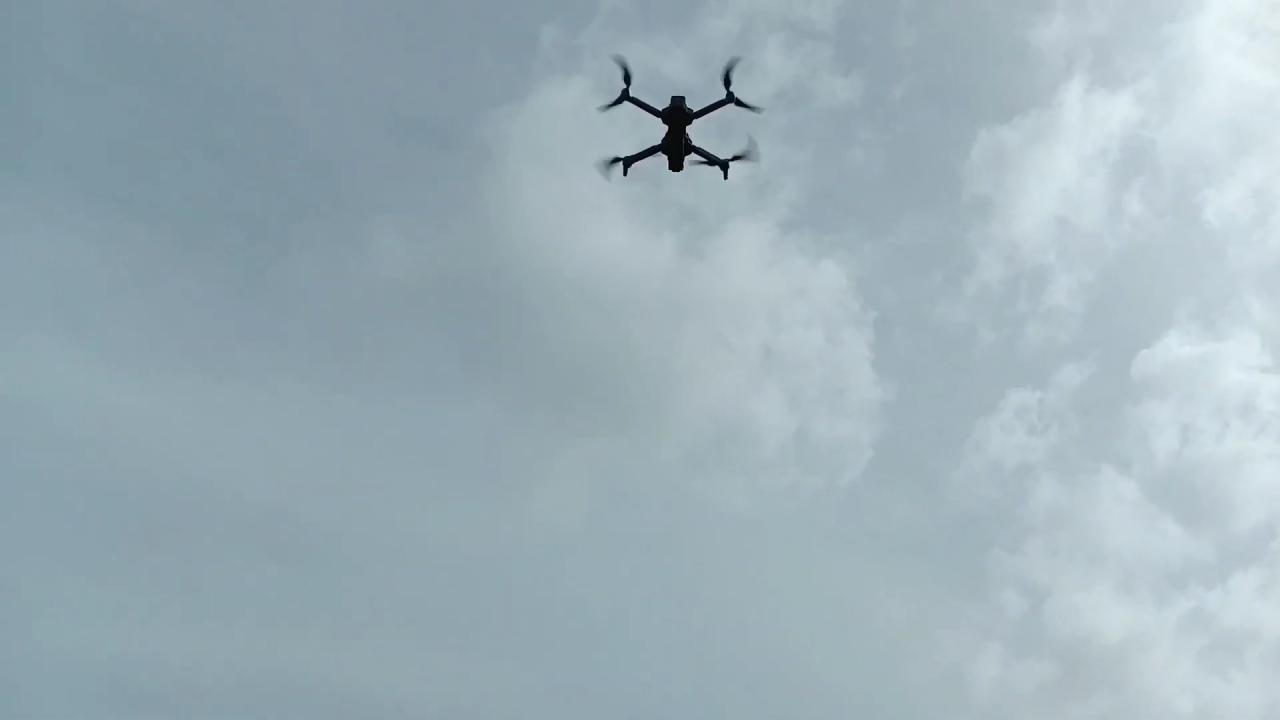Drone: (583, 44, 780, 200)
